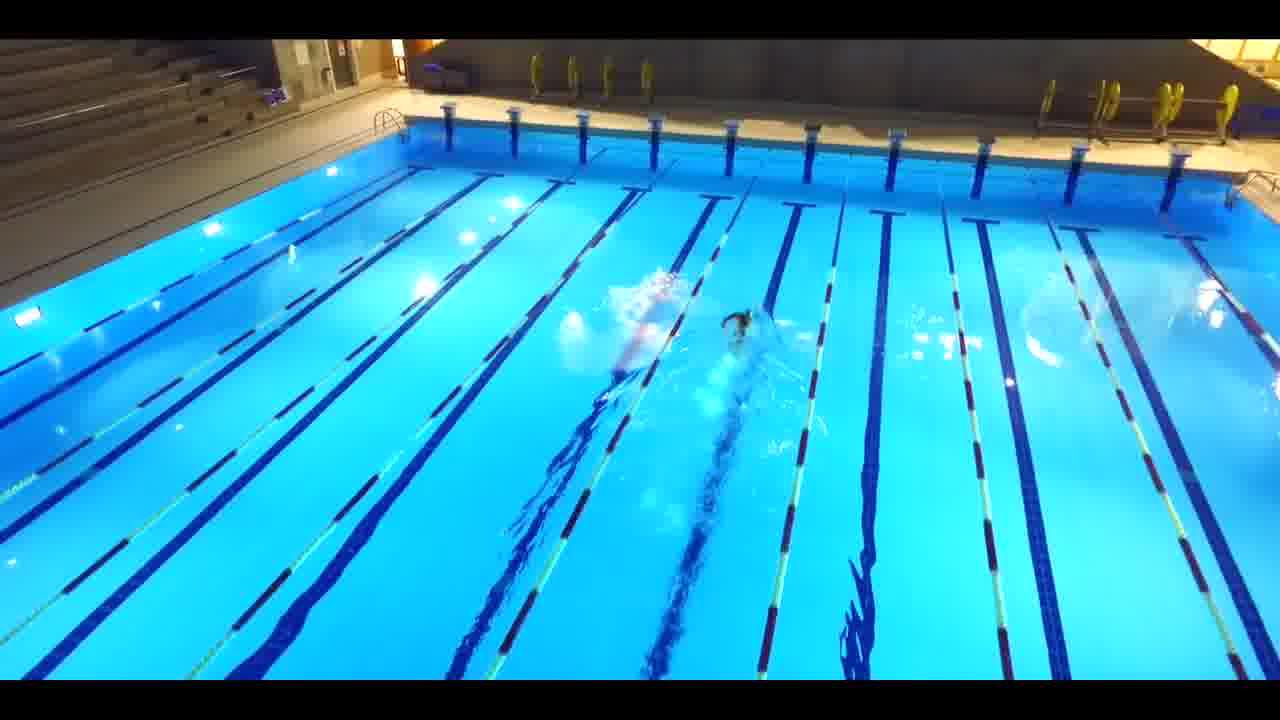swimmer: (720, 300, 757, 339)
